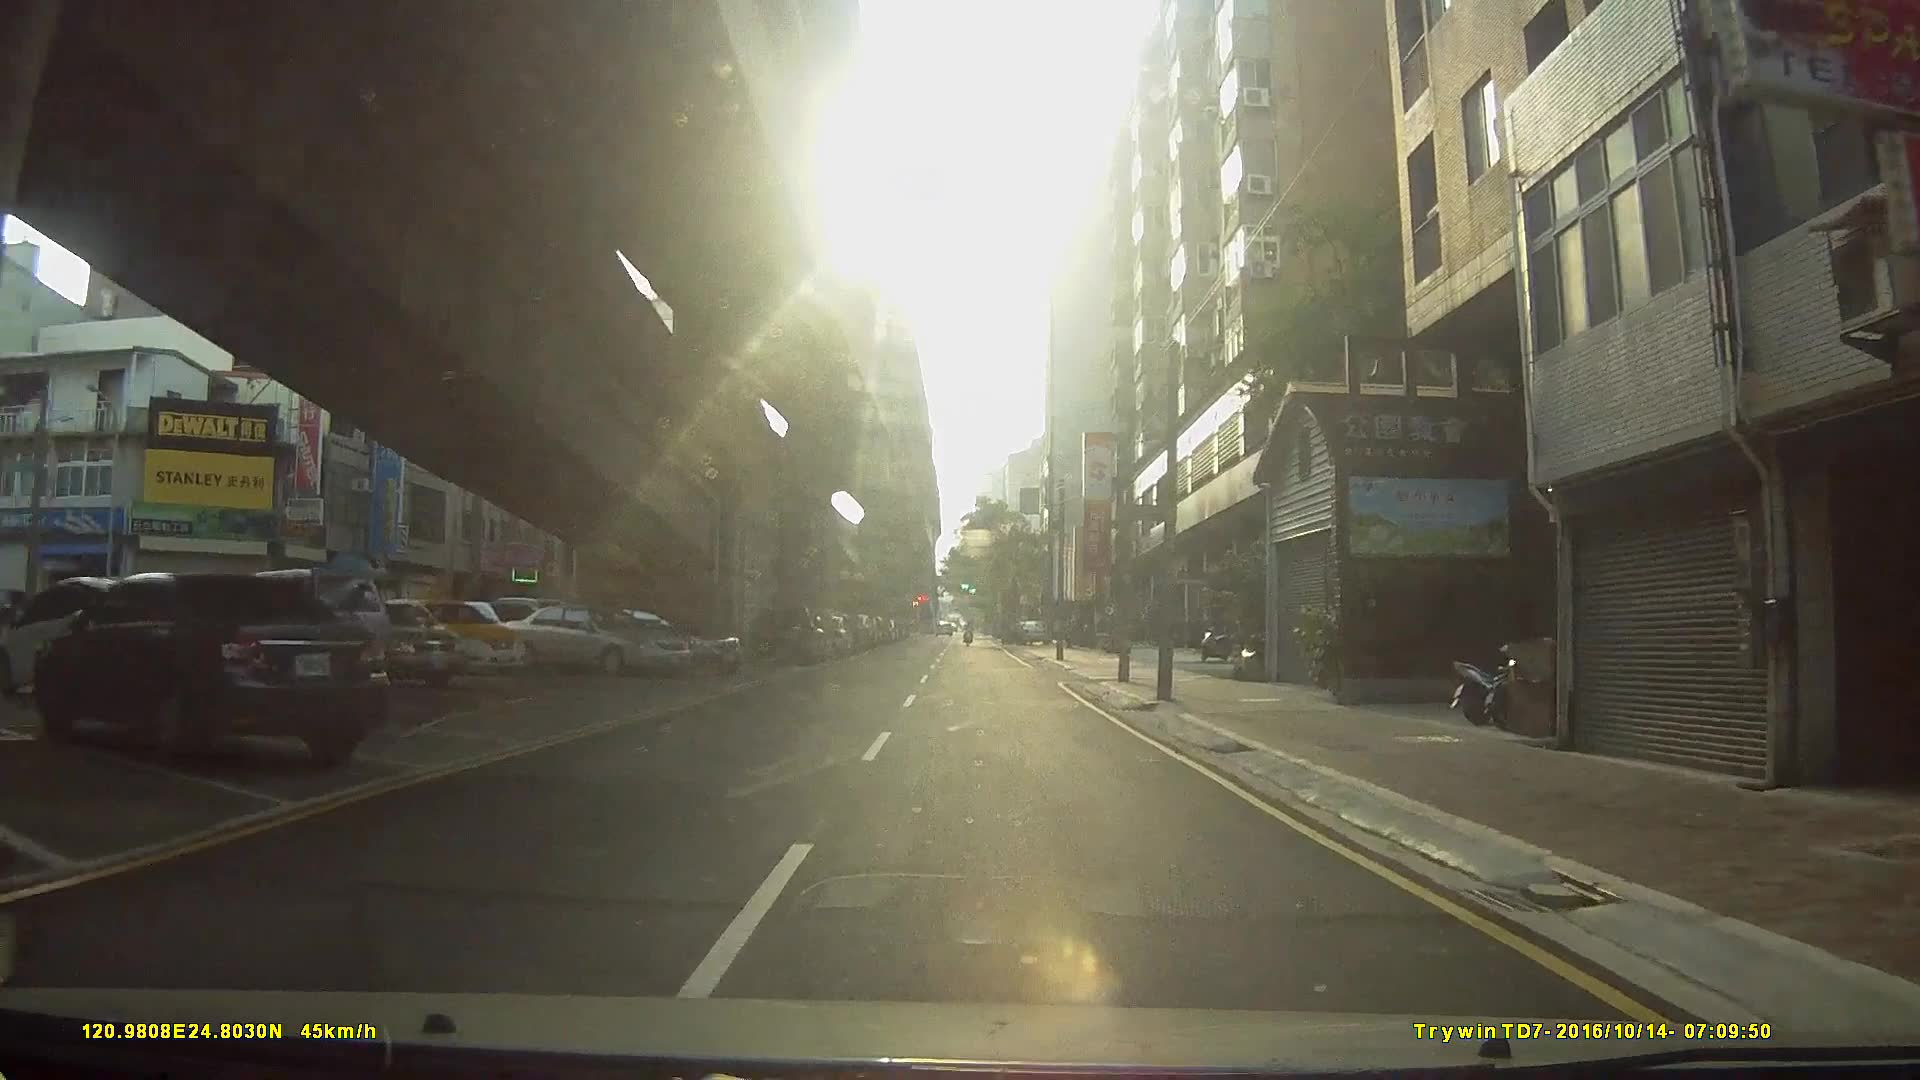vehicle: (33, 568, 390, 767), (0, 574, 171, 703), (287, 597, 463, 694), (495, 601, 690, 676), (560, 604, 742, 680), (377, 597, 525, 675), (748, 600, 828, 667)
